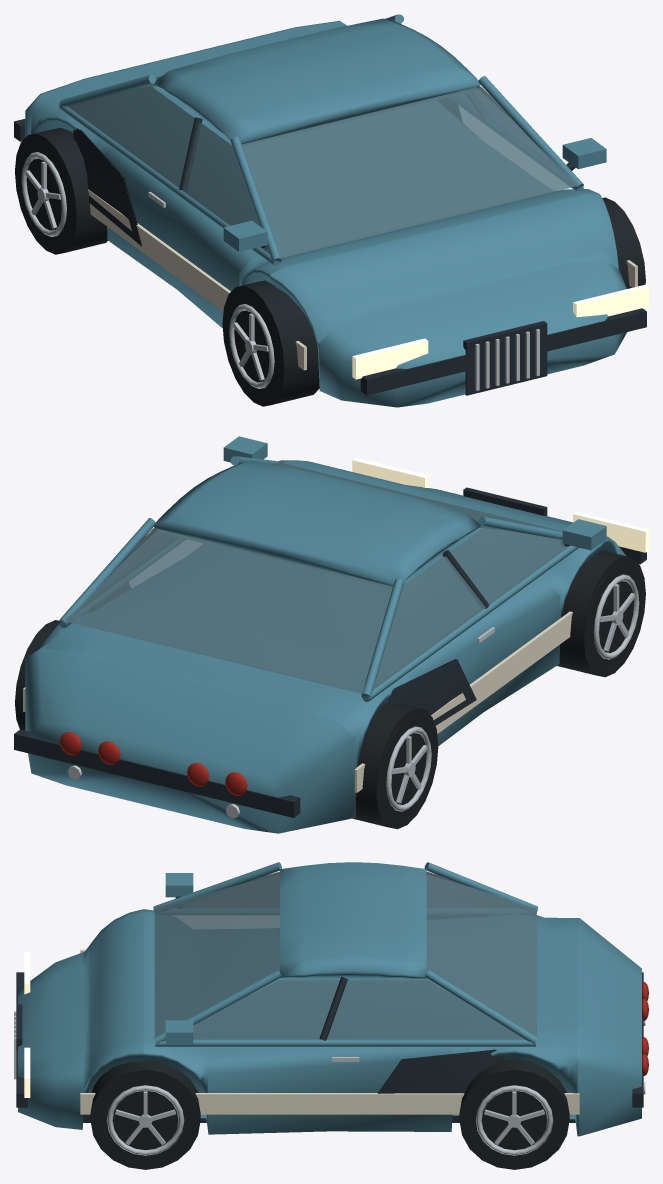
File: molsheim.glb
The picture shows the model from 3 angles, top to bottom: view 1: azimuth 30°, elevation 25°; view 2: azimuth 150°, elevation 25°; view 3: azimuth 270°, elevation 25°; orthographic projection. The views are drawn at different scales.
Visible parts, largest first — view 1: exterior-paint, windows, black-trim, tire-front-left, tire-rear-left, secondary-paint, headlights, rim-rear-left, rim-front-left, chrome, tire-front-right; view 2: exterior-paint, windows, black-trim, tire-front-left, tire-rear-left, secondary-paint, headlights, rim-front-left, rim-rear-left, taillights, tire-rear-right; view 3: exterior-paint, windows, tire-front-right, tire-rear-right, secondary-paint, black-trim, rim-front-right, rim-rear-right, headlights, taillights.
Boxes of the visible parts, x1=… form: exterior-paint: x1=25, y1=14, x2=626, y2=407; windows: x1=66, y1=76, x2=578, y2=258; black-trim: x1=14, y1=98, x2=646, y2=395; tire-front-left: x1=222, y1=280, x2=319, y2=406; tire-rear-left: x1=15, y1=127, x2=107, y2=254; secondary-paint: x1=88, y1=189, x2=637, y2=370; headlights: x1=352, y1=284, x2=648, y2=379; rim-rear-left: x1=21, y1=152, x2=66, y2=236; rim-front-left: x1=229, y1=304, x2=274, y2=388; chrome: x1=148, y1=191, x2=539, y2=390; tire-front-right: x1=602, y1=197, x2=645, y2=288; exterior-paint: x1=25, y1=436, x2=626, y2=833; windows: x1=65, y1=462, x2=570, y2=693; black-trim: x1=14, y1=487, x2=646, y2=817; tire-front-left: x1=557, y1=550, x2=645, y2=677; tire-rear-left: x1=352, y1=702, x2=438, y2=829; secondary-paint: x1=23, y1=611, x2=572, y2=792; headlights: x1=352, y1=458, x2=648, y2=552; rim-front-left: x1=593, y1=574, x2=639, y2=659; rim-rear-left: x1=386, y1=726, x2=431, y2=811; taillights: x1=60, y1=732, x2=247, y2=795; tire-rear-right: x1=15, y1=620, x2=59, y2=730; exterior-paint: x1=18, y1=862, x2=641, y2=1136; windows: x1=154, y1=871, x2=536, y2=1039; tire-front-right: x1=90, y1=1061, x2=200, y2=1169; tire-rear-right: x1=459, y1=1058, x2=569, y2=1169; secondary-paint: x1=80, y1=949, x2=579, y2=1114; black-trim: x1=16, y1=896, x2=643, y2=1122; rim-front-right: x1=106, y1=1085, x2=184, y2=1155; rim-rear-right: x1=475, y1=1085, x2=553, y2=1155; headlights: x1=24, y1=952, x2=30, y2=1097; taillights: x1=642, y1=982, x2=648, y2=1075.
Bounding box in the file's own units: 2.21 × 1.18 × 3.68.
